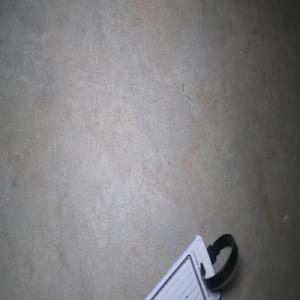LuggageTag: (140, 231, 238, 300)
